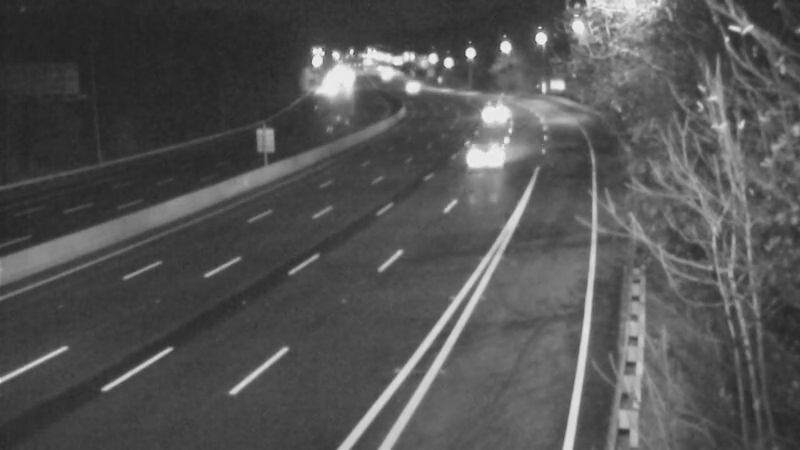vehicle: (452, 114, 532, 194), (384, 65, 434, 115), (466, 90, 516, 140)
